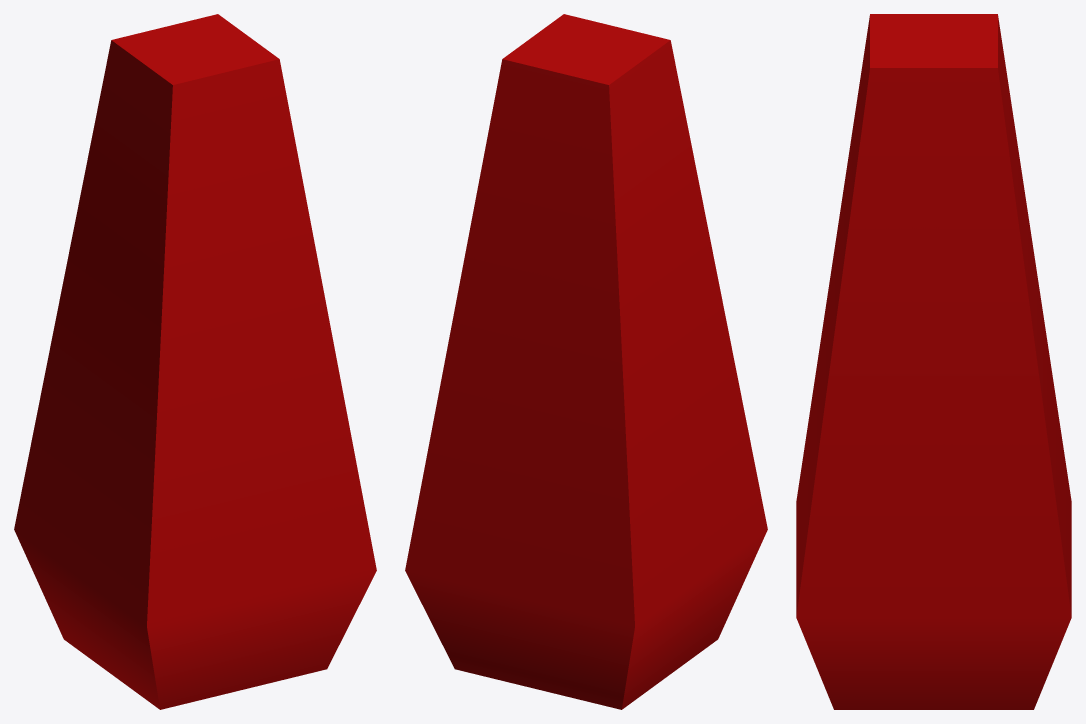
The model's file is SM_Env_Bush_Palm_04_Collision.gltf.
3 views of the same model, side by side, from view 1: azimuth 30°, elevation 25°; view 2: azimuth 150°, elevation 25°; view 3: azimuth 270°, elevation 25° (orthographic). The views are drawn at different scales.
Visible parts, largest first — view 1: SM_Env_Bush_Palm_04_Collision; view 2: SM_Env_Bush_Palm_04_Collision; view 3: SM_Env_Bush_Palm_04_Collision.
Part boxes in pixels (bbox=[...]): SM_Env_Bush_Palm_04_Collision: bbox=[14, 14, 376, 709]; SM_Env_Bush_Palm_04_Collision: bbox=[405, 14, 767, 709]; SM_Env_Bush_Palm_04_Collision: bbox=[796, 14, 1071, 709].
Bounding box in the file's own units: 0.5811 × 1.46 × 0.5811.
